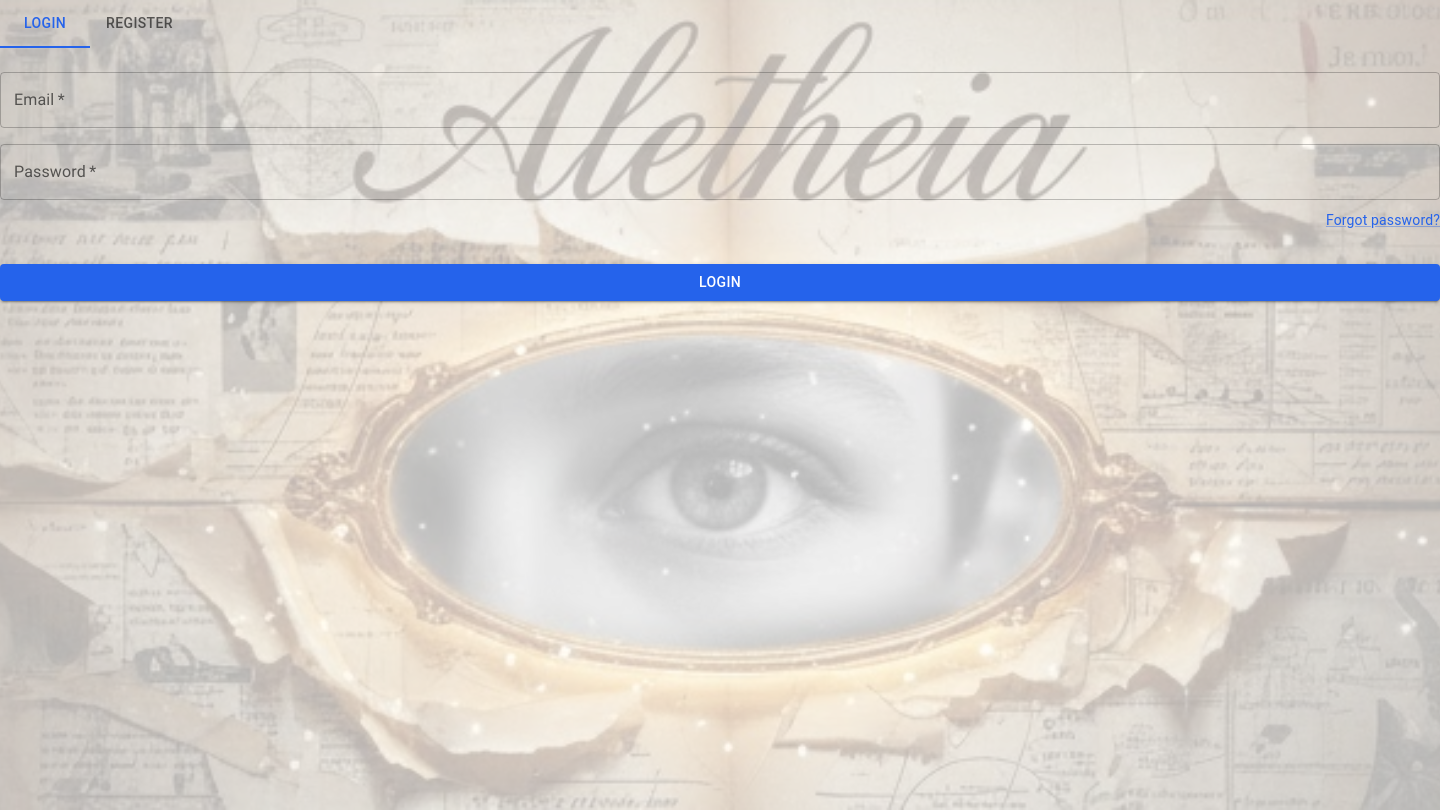
Scenario: LoginForm with MSW › should handle network errors gracefully
Type "test@example.com" into the field labelled "Email *" at (720, 100), box [0, 72, 1439, 128]
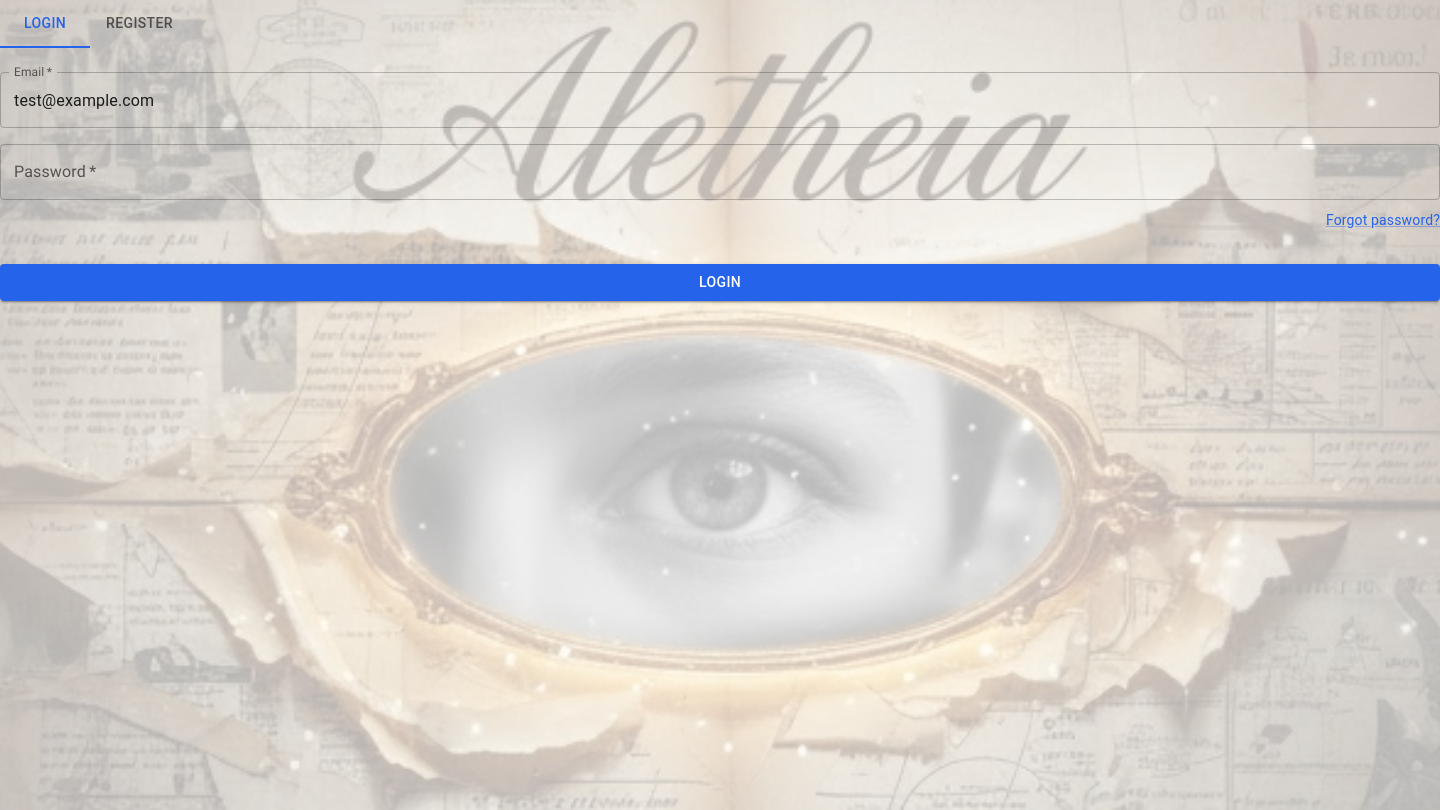
Type "password123" into the password field labelled "Password *" at (720, 172), box [0, 144, 1439, 200]
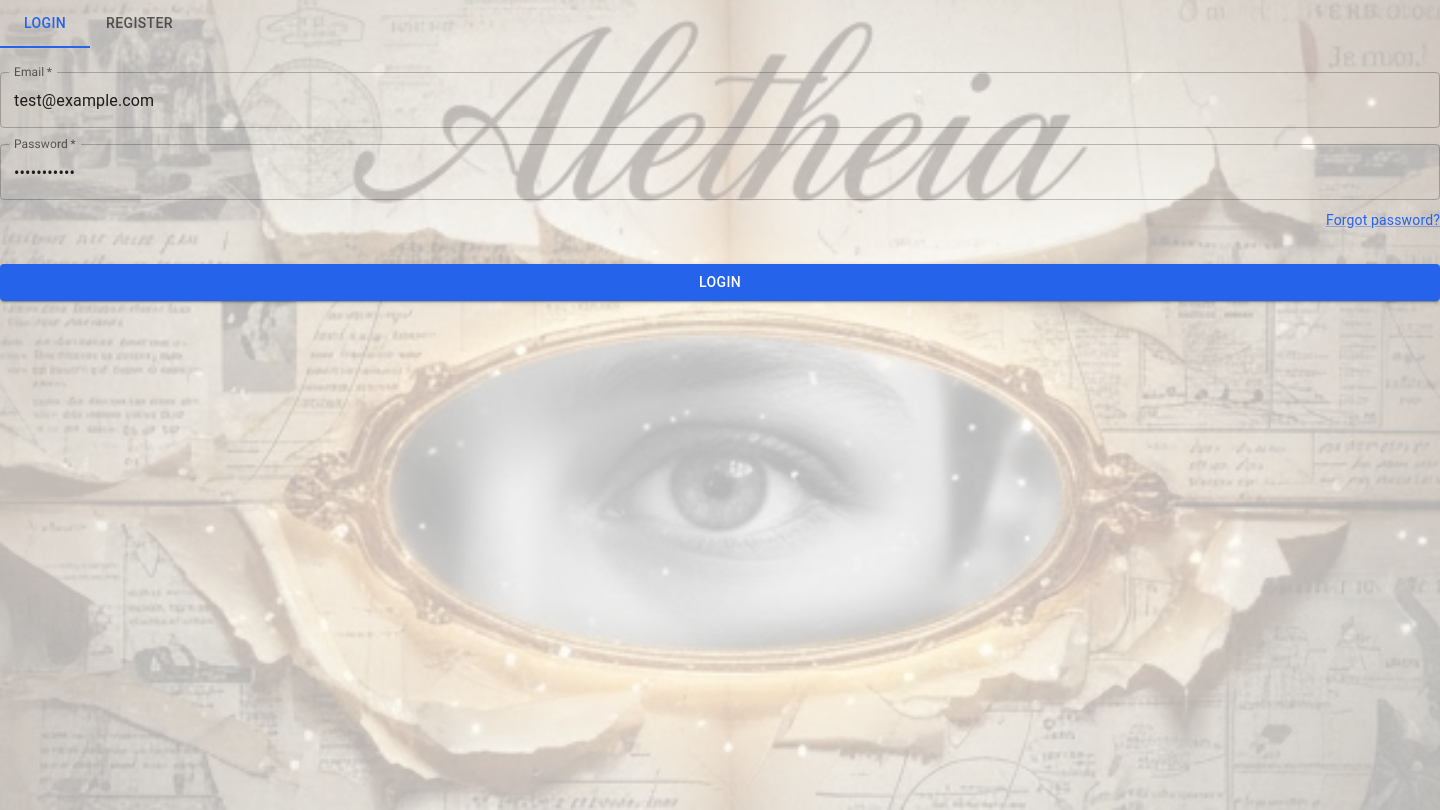
Click the button "Login" at (720, 282), box [0, 264, 1439, 300]
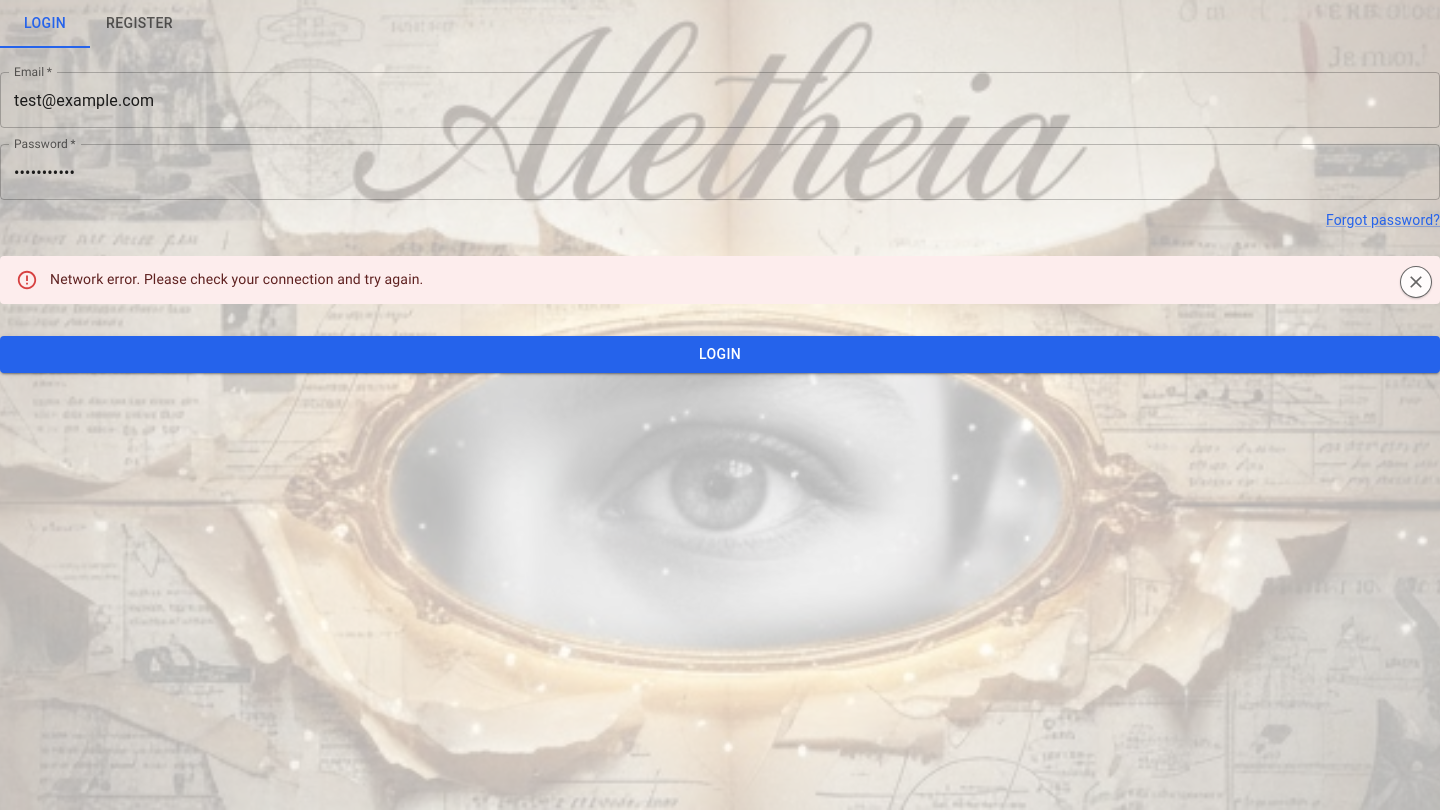
Now the message "Network error. Please check your connection and try again." is shown, box [0, 256, 1439, 304]
